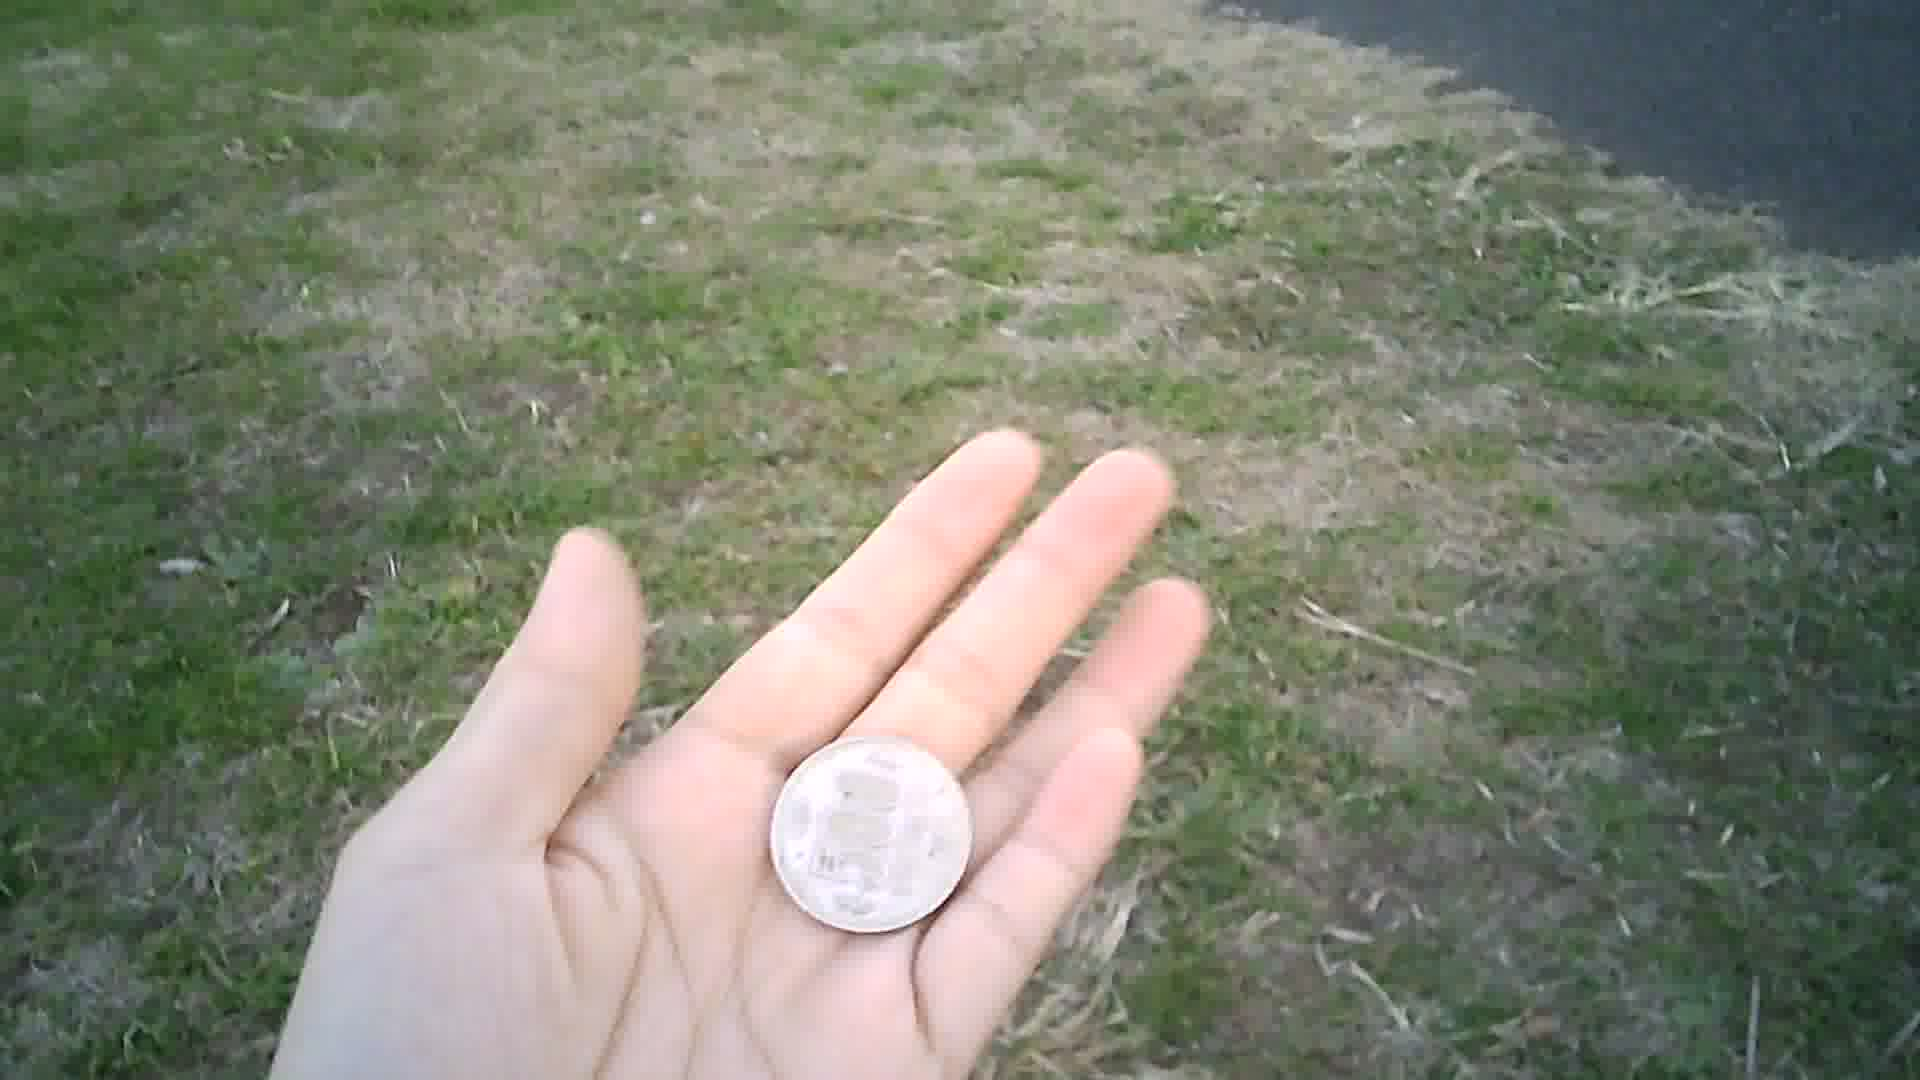500 Yen: (773, 731, 976, 936)
